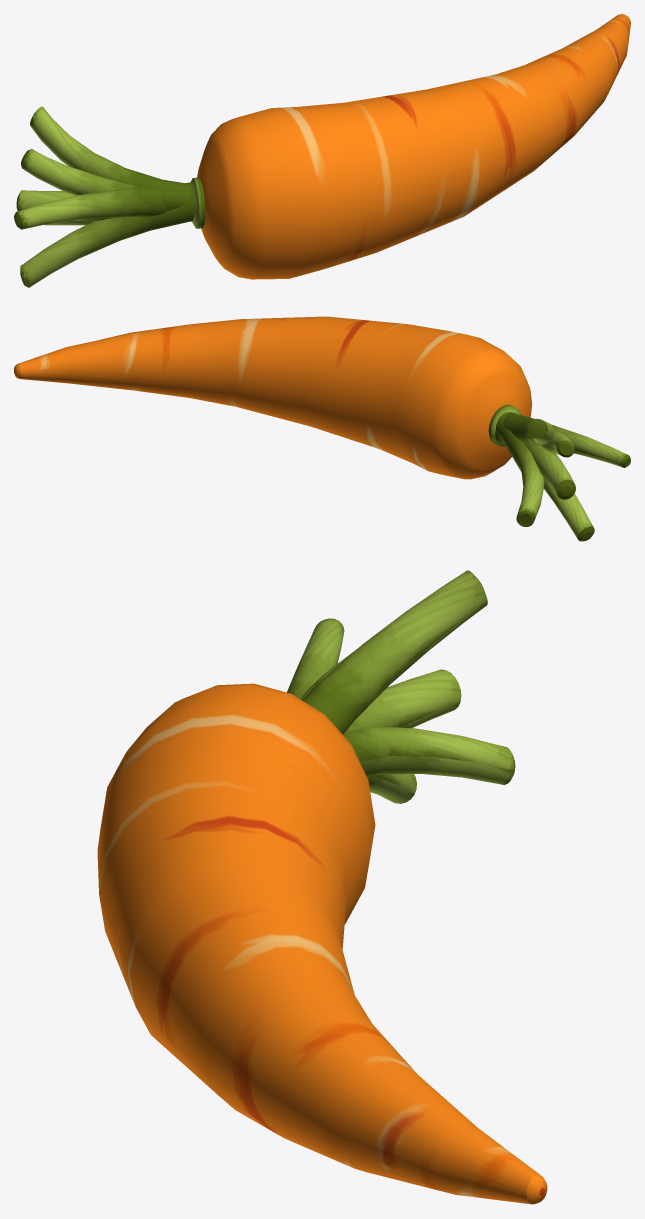
File: Carrot.fbx
3 renders of one model, top to bottom at view 1: azimuth 30°, elevation 25°; view 2: azimuth 150°, elevation 25°; view 3: azimuth 270°, elevation 25°, orthographic. The views are drawn at different scales.
Visible parts, largest first — view 1: pasted__Model; view 2: pasted__Model; view 3: pasted__Model.
Part boxes in pixels (bbox=[...]): pasted__Model: bbox=[14, 14, 630, 287]; pasted__Model: bbox=[14, 316, 630, 541]; pasted__Model: bbox=[97, 570, 547, 1204].
Size of the model in its own units: 125 by 28.03 by 43.19.
